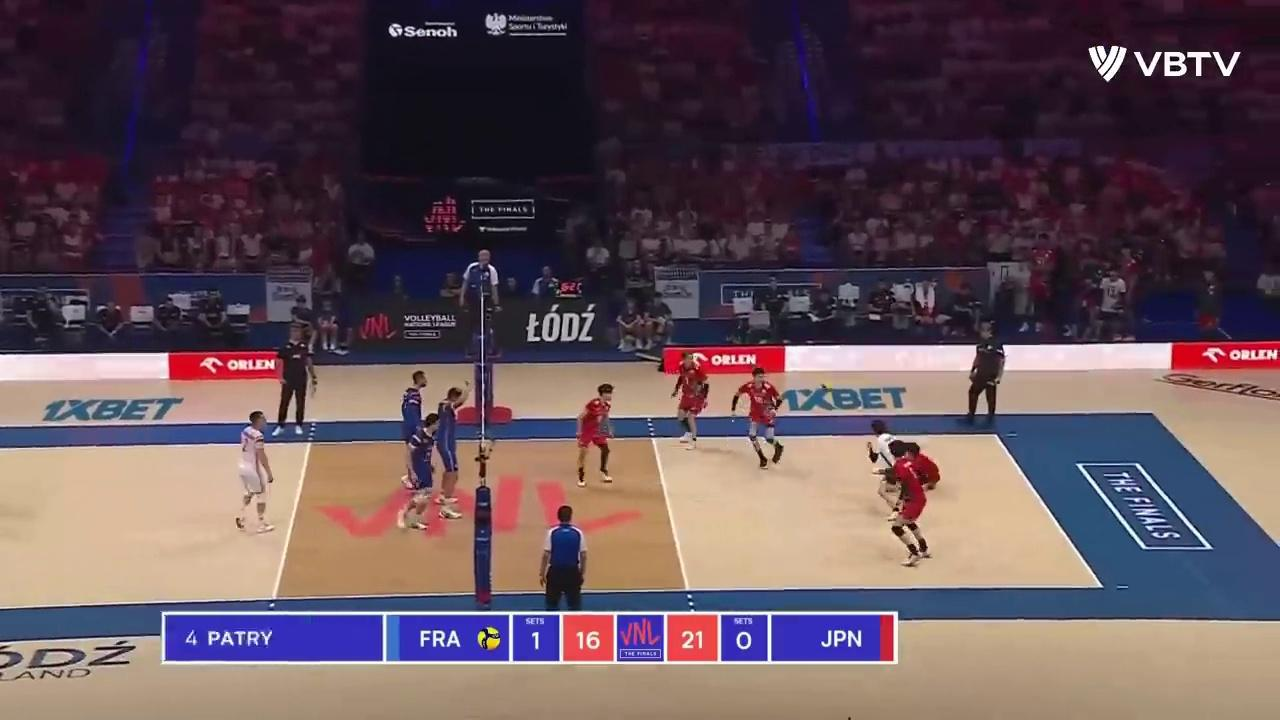ball: (818, 381, 831, 390)
